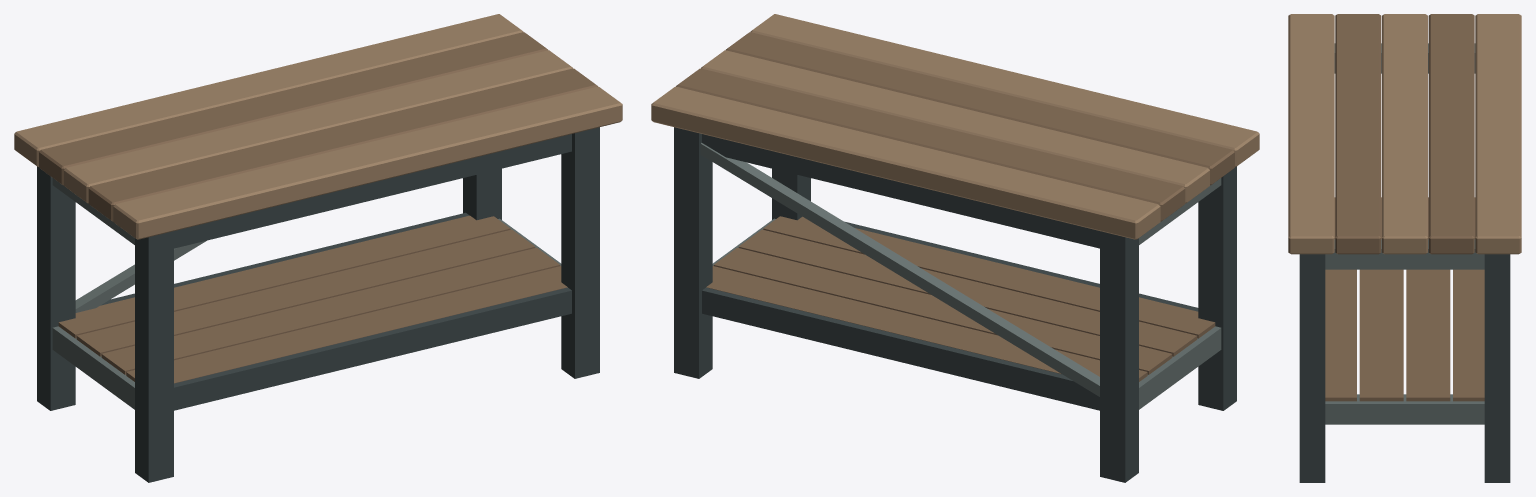
File: Turner_OutdoorWorkbench.fbx
The picture shows the model from 3 angles, left to right: view 1: azimuth 30°, elevation 25°; view 2: azimuth 150°, elevation 25°; view 3: azimuth 270°, elevation 25°; orthographic projection. The views are drawn at different scales.
Visible parts, largest first — view 1: Turner_OutdoorWorkbench; view 2: Turner_OutdoorWorkbench; view 3: Turner_OutdoorWorkbench.
Boxes of the visible parts, box(x1,y1,x2,y2) form: Turner_OutdoorWorkbench: box(14, 14, 622, 482); Turner_OutdoorWorkbench: box(651, 14, 1259, 482); Turner_OutdoorWorkbench: box(1288, 14, 1521, 482).
Bounding box in the file's own units: 1.7 × 0.9 × 0.748.
